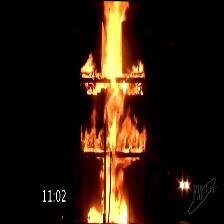fire: (77, 0, 150, 220)
